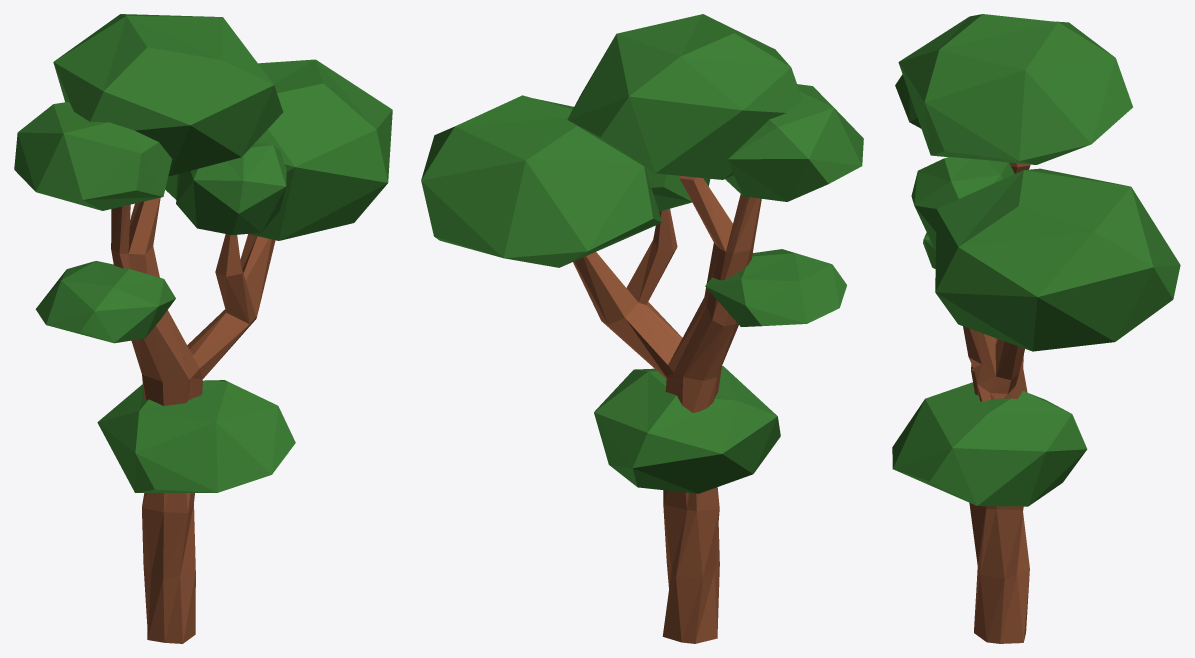
File: Dandelion_Pin_Clair.FBX
3 views of the same model, side by side, from view 1: azimuth 30°, elevation 25°; view 2: azimuth 150°, elevation 25°; view 3: azimuth 270°, elevation 25° (orthographic).
Visible parts, largest first — view 1: Cylinder053; view 2: Cylinder053; view 3: Cylinder053.
Part boxes in pixels (bbox=[...]): Cylinder053: bbox=[14, 14, 392, 643]; Cylinder053: bbox=[421, 14, 863, 643]; Cylinder053: bbox=[892, 14, 1180, 643].
Bounding box in the file's own units: 871 × 1275 × 552.
